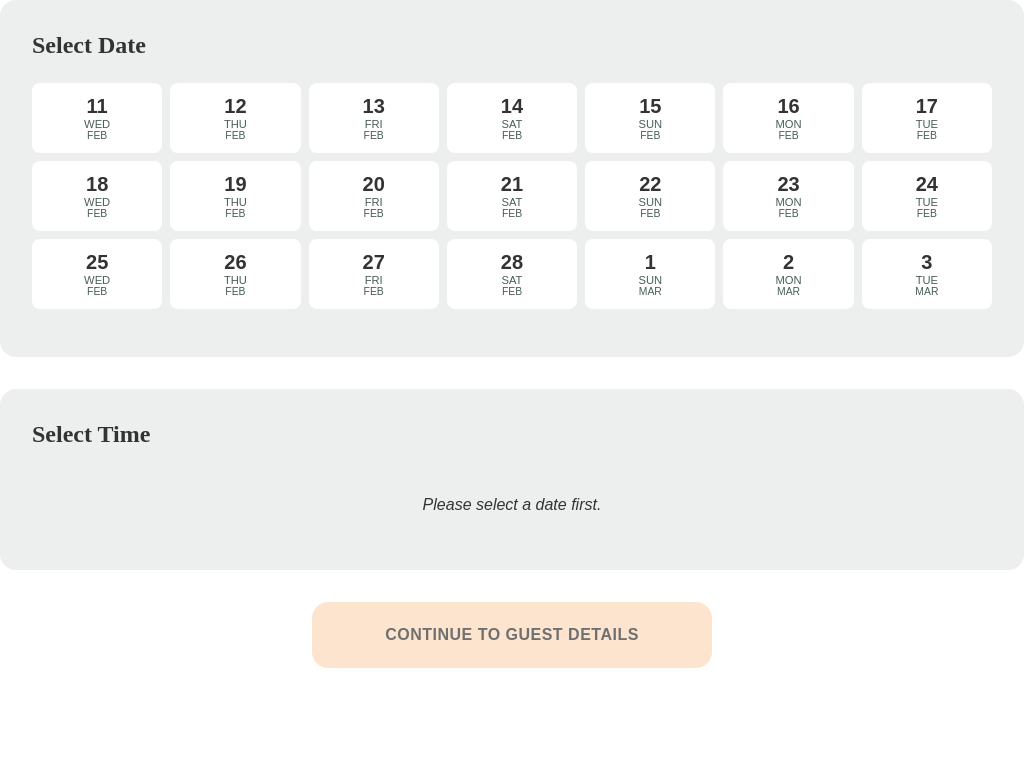
it: BookingForm › displays available times after selecting date
The image size is (1024, 768).
Click the button with test id "date-button" showing "11 Wed Feb" at (97, 118), box [32,83,162,153]
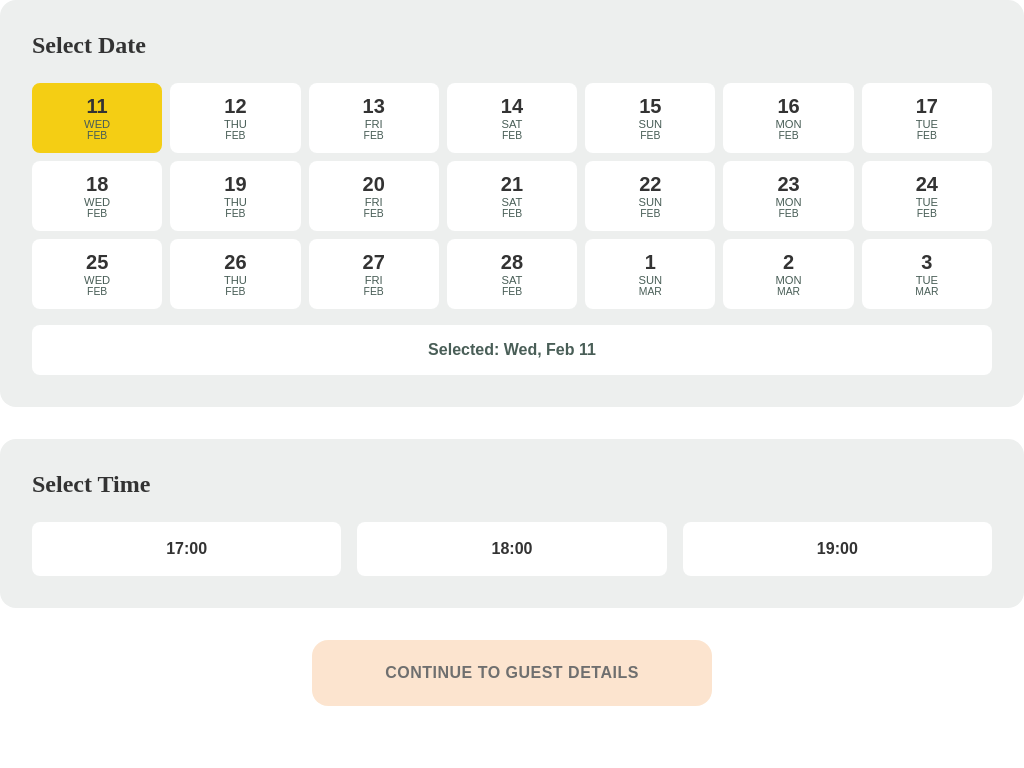
expect the button "17:00" is shown: met, box [32,522,341,576]
expect the button "18:00" is shown: met, box [357,522,667,576]
expect the button "19:00" is shown: met, box [683,522,992,576]
